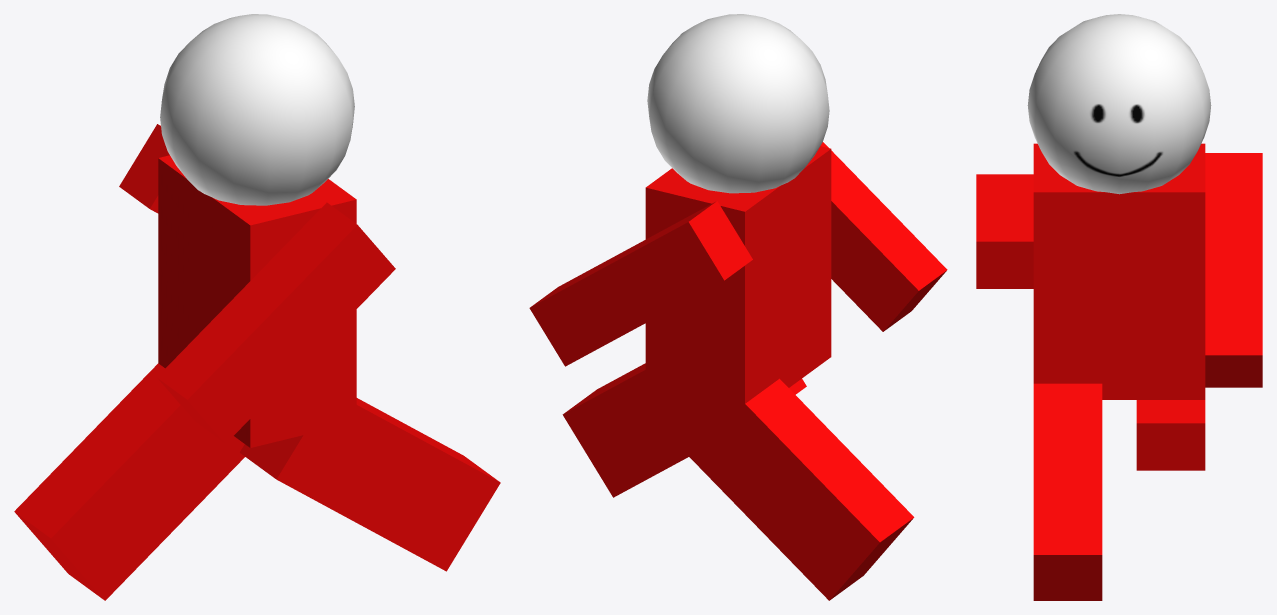
The model's file is aplayer.glb.
3 views of the same model, side by side, from view 1: azimuth 30°, elevation 25°; view 2: azimuth 150°, elevation 25°; view 3: azimuth 270°, elevation 25° (orthographic). The views are drawn at different scales.
Parts seen in each view (by area): view 1: head, Box, torso, Box.003, Box.001, Box.002; view 2: torso, Box, head, Box.002, Box.003, Box.001; view 3: torso, head, Box.001, Box.002, Box.003, Box.
Part boxes in pixels (bbox=[...]): head: bbox=[160, 14, 354, 205]; Box: bbox=[14, 363, 244, 600]; torso: bbox=[158, 155, 356, 447]; Box.003: bbox=[157, 202, 395, 443]; Box.001: bbox=[240, 391, 500, 571]; Box.002: bbox=[119, 124, 169, 213]; torso: bbox=[645, 146, 831, 413]; Box: bbox=[670, 378, 914, 600]; head: bbox=[647, 14, 829, 193]; Box.002: bbox=[529, 201, 752, 366]; Box.003: bbox=[820, 142, 947, 331]; Box.001: bbox=[562, 363, 806, 497]; torso: bbox=[1033, 143, 1205, 399]; head: bbox=[1027, 14, 1211, 194]; Box.001: bbox=[1033, 383, 1102, 600]; Box.002: bbox=[1205, 153, 1262, 387]; Box.003: bbox=[976, 174, 1033, 288]; Box: bbox=[1136, 400, 1205, 470].
Bounding box in the file's own units: 3.71 × 4.94 × 2.5.
3 materials, 1 textured.
